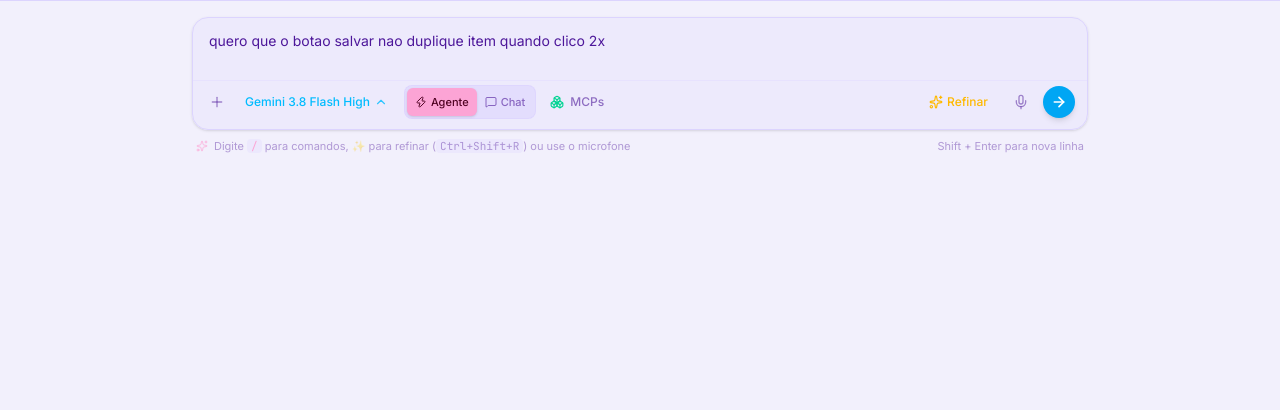
Test case: ChatInput Component - Prompt Refiner Sob Demanda (Issue #103) › deve refinar ao clicar no botão ✨, exibir provider/latência/skills e permitir Substituir + Desfazer sem enviar
Click the button with test id "chat-refine-btn": [958, 102] box [918,86,999,118]
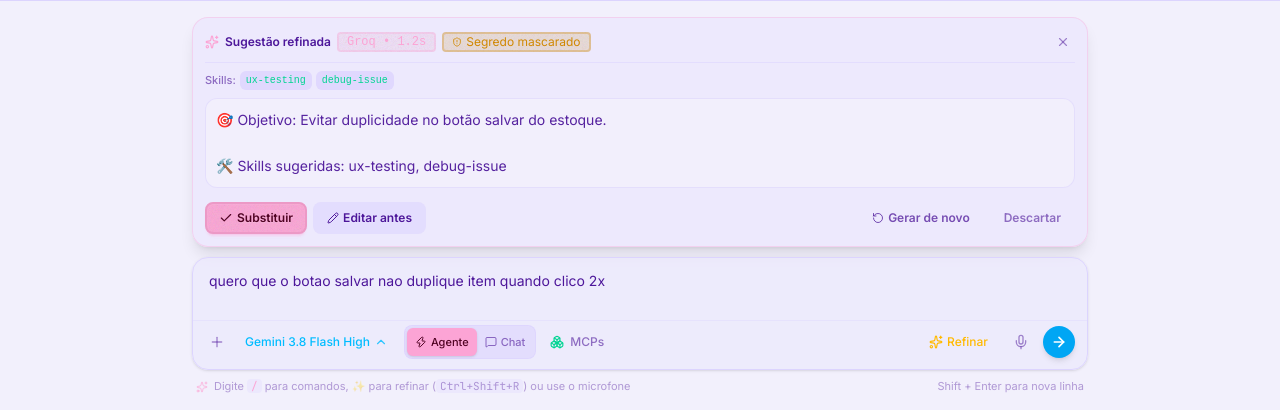
Now the element with test id "refine-suggestion-card" is shown, box [192,17,1088,247]
Now the text with test id "refine-provider-badge" reads "Groq • 1.2s", box [337,32,436,52]
Now the element with test id "refine-skills-list" shows "ux-testing", box [246,75,306,86]
Click the button with test id "refine-replace-btn": [256, 218] box [205,202,307,234]
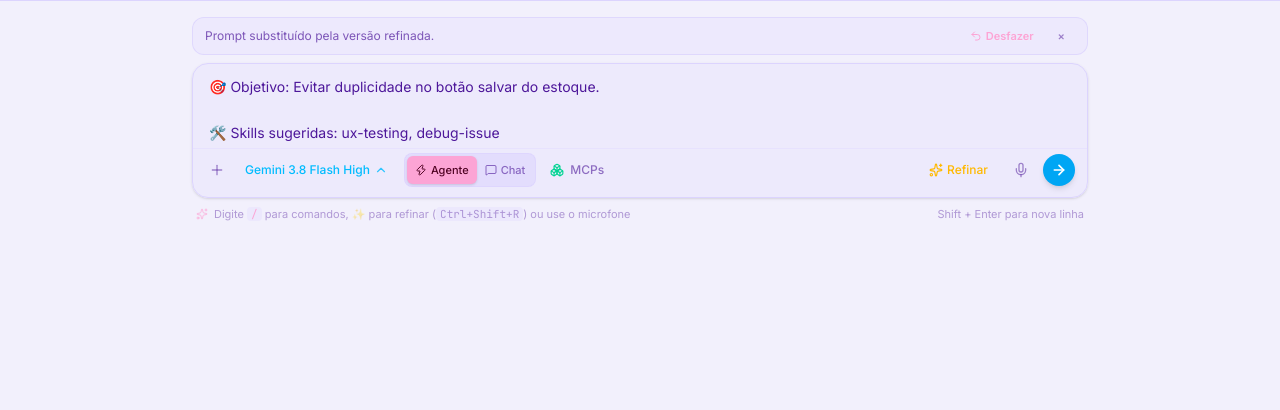
Click the button with test id "refine-undo-btn": [1002, 36] box [960,24,1044,48]
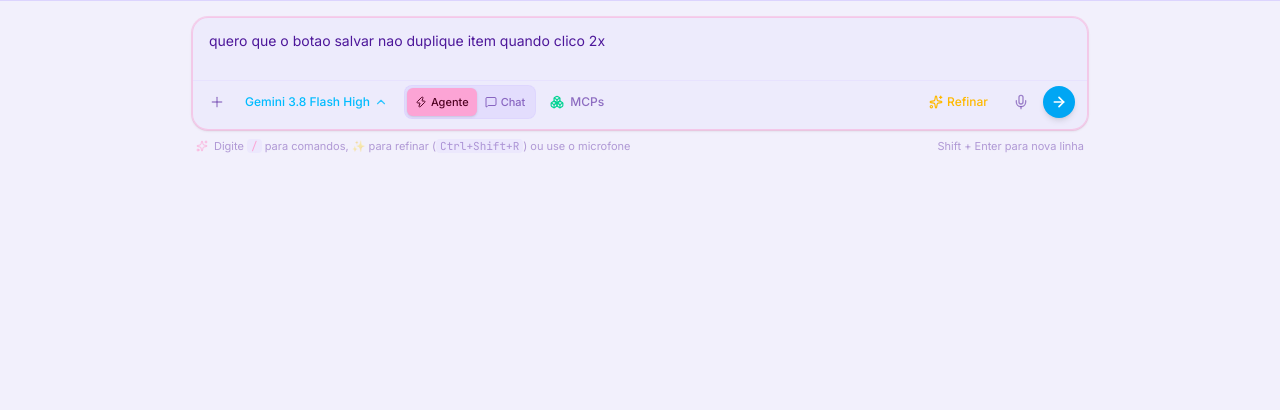
Now the text box with test id "chat-textarea" holds "quero que o botao salvar nao duplique item quando clico 2x", box [193,18,1087,80]
